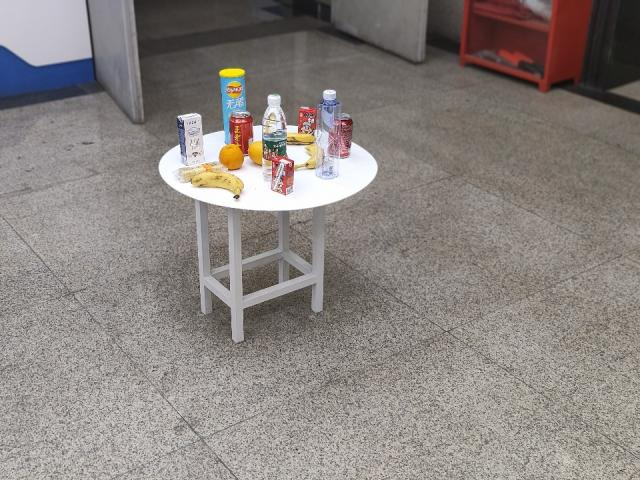Canned_drinks: (230, 113, 251, 144)
bottle: (316, 90, 342, 181), (264, 92, 284, 158)
cylinder: (218, 68, 248, 113)
drink_box: (179, 114, 206, 164), (272, 154, 297, 198), (298, 107, 314, 135)
